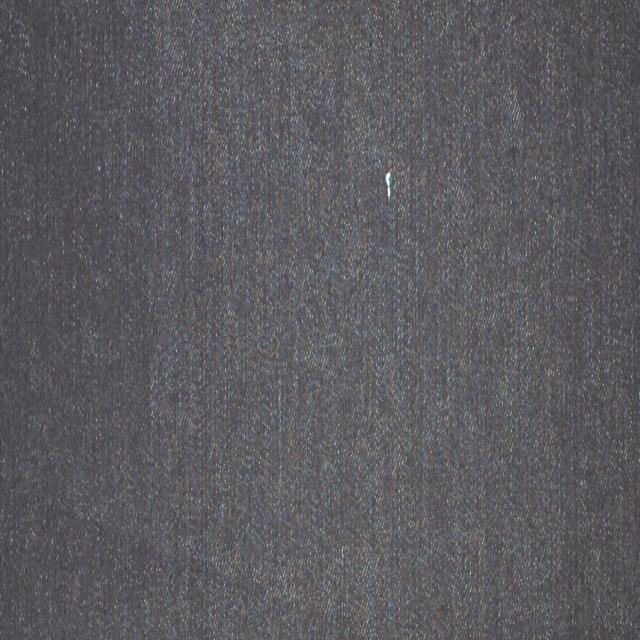Knot: (385, 171, 394, 200)
